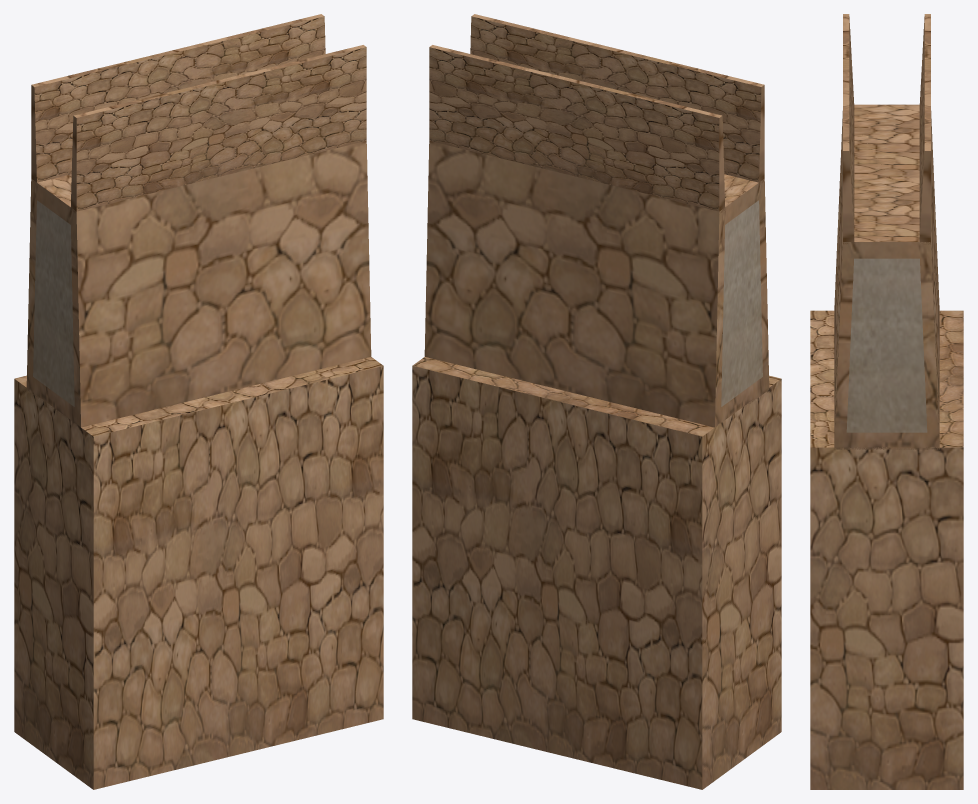
The model's file is tara_wall_short.dae.
The picture shows the model from 3 angles, left to right: view 1: azimuth 30°, elevation 25°; view 2: azimuth 150°, elevation 25°; view 3: azimuth 270°, elevation 25°; orthographic projection. The views are drawn at different scales.
Parts seen in each view (by area): view 1: wall_shot1; view 2: wall_shot1; view 3: wall_shot1.
Part boxes in pixels (<box>): wall_shot1: <box>14,14,383,789</box>; wall_shot1: <box>412,14,781,789</box>; wall_shot1: <box>810,14,963,789</box>.
Bounding box in the file's own units: 13.47 × 6.37 × 29.26.
